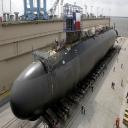submarine: (10, 5, 123, 122)
